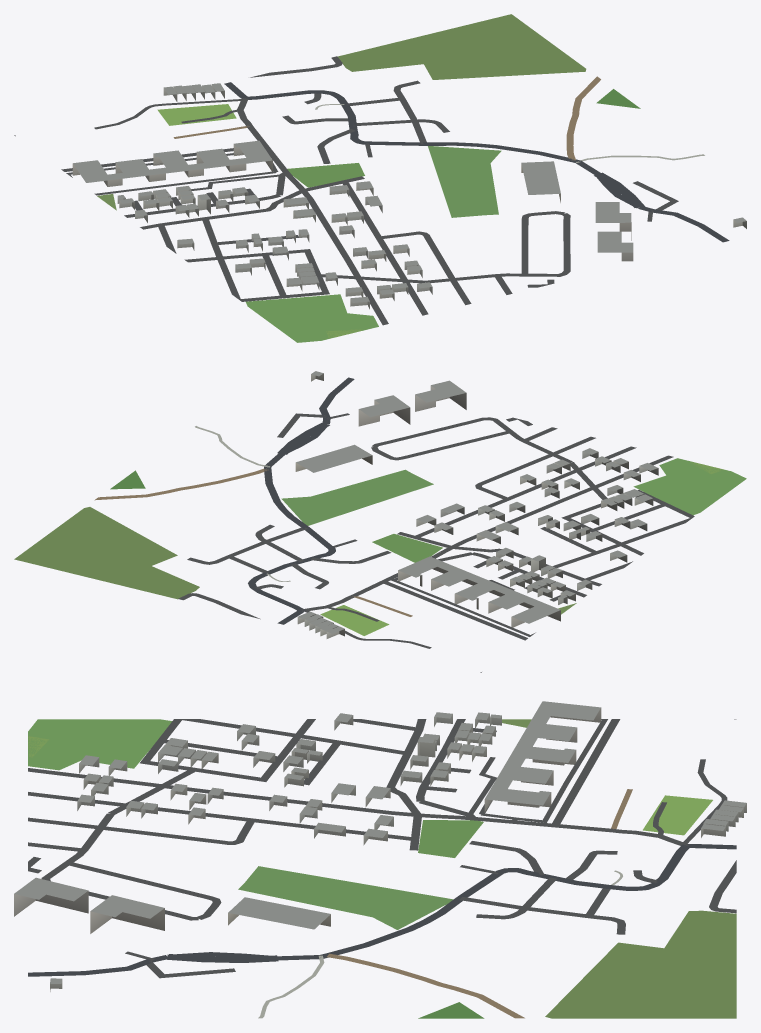
3 views of the same model, one above another, from view 1: azimuth 30°, elevation 25°; view 2: azimuth 150°, elevation 25°; view 3: azimuth 270°, elevation 25° (orthographic). The views are drawn at different scales.
Parts seen in each view (by area): view 1: ground, building; view 2: ground, building; view 3: ground, building.
Part boxes in pixels (bbox=[...]): ground: bbox=[14, 14, 729, 342]; building: bbox=[72, 83, 746, 309]; ground: bbox=[14, 377, 746, 672]; building: bbox=[295, 371, 658, 638]; ground: bbox=[28, 719, 736, 1018]; building: bbox=[14, 701, 746, 991].
Bounding box in the file's own units: 507 × 18 × 517.
